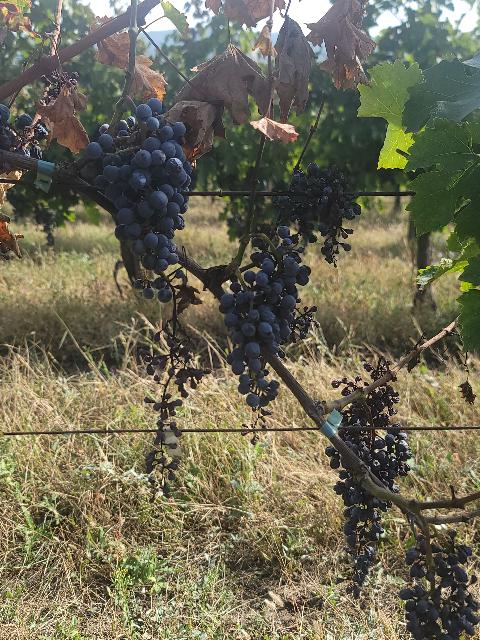grapes: (86, 99, 192, 272), (219, 282, 282, 410), (251, 226, 318, 342)
